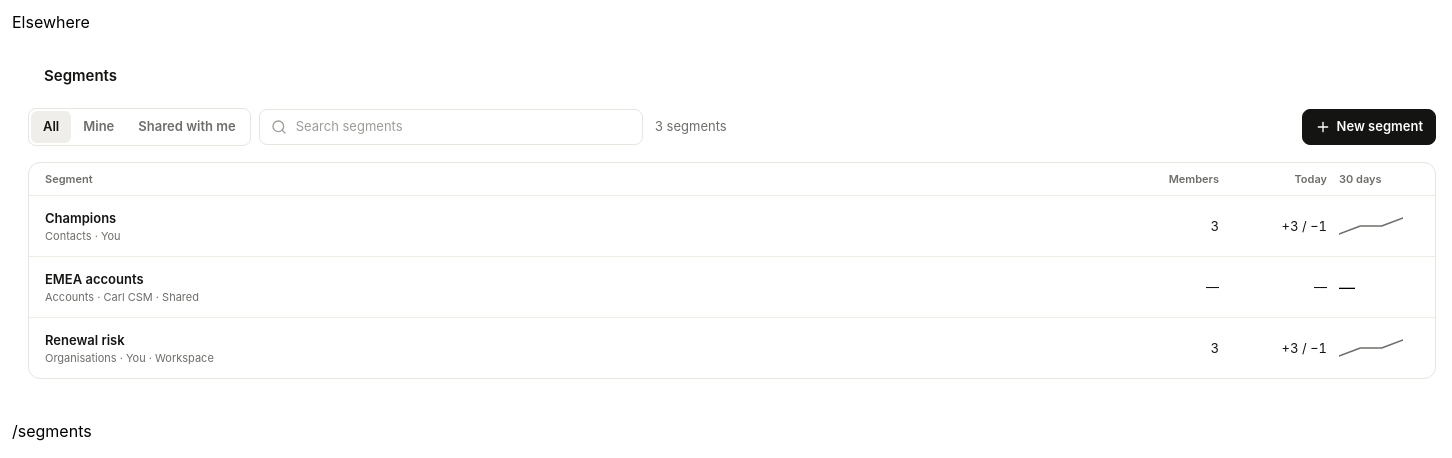
Test: Segments list on the primitives (Impact PR) › keeps the count region mounted while another scope loads
Expected: the message reads "3 segments", [655,118,727,134]
Click the button "Mine": (99, 127) [71,111,126,143]
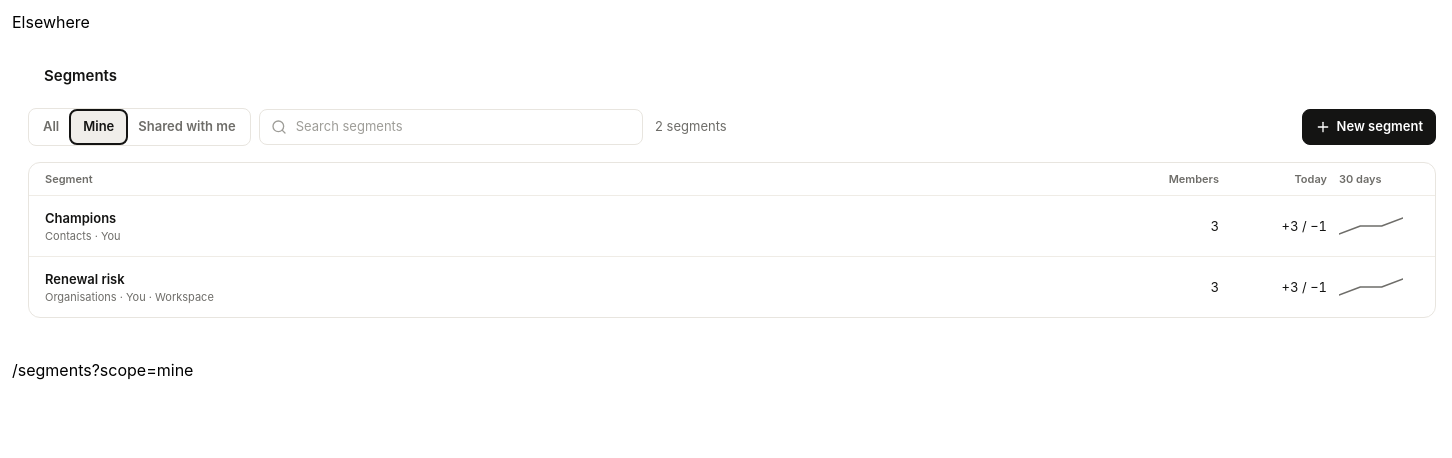
Expected: the message reads "2 segments", [655,118,727,134]
Now the text with test id "where" shows "scope=mine", box [12,360,193,380]
